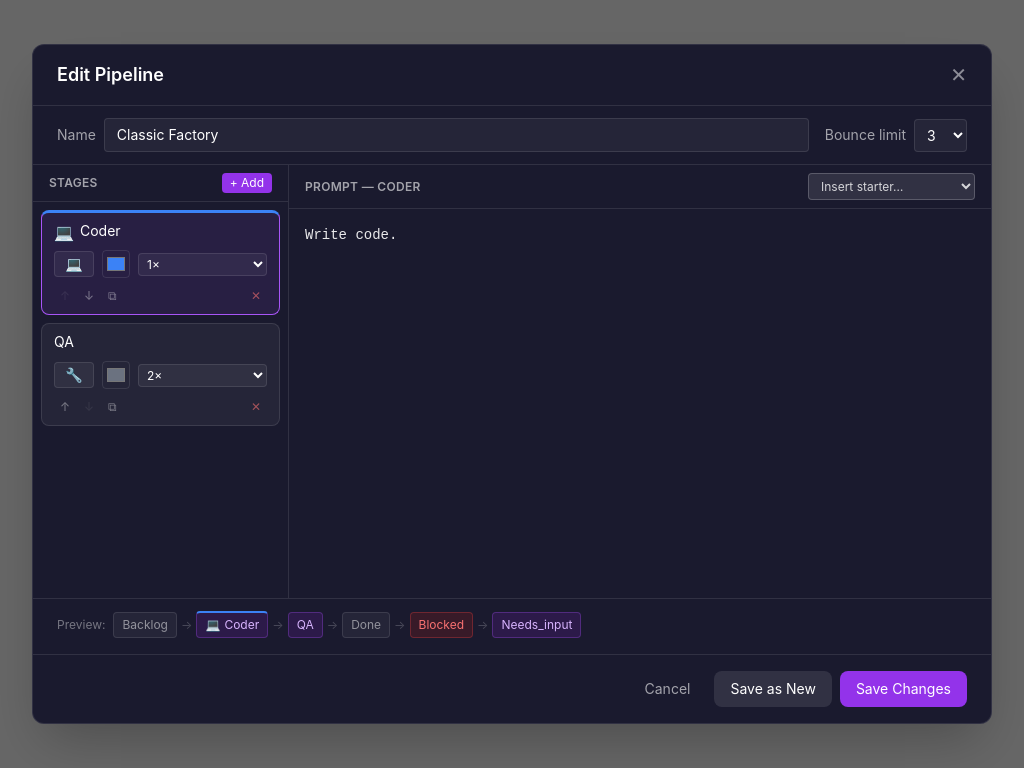
stage CRUD › duplicates a stage when clicking duplicate
Click the button named "duplicate stage" at x=112, y=296, box 102,286 -> 123,306
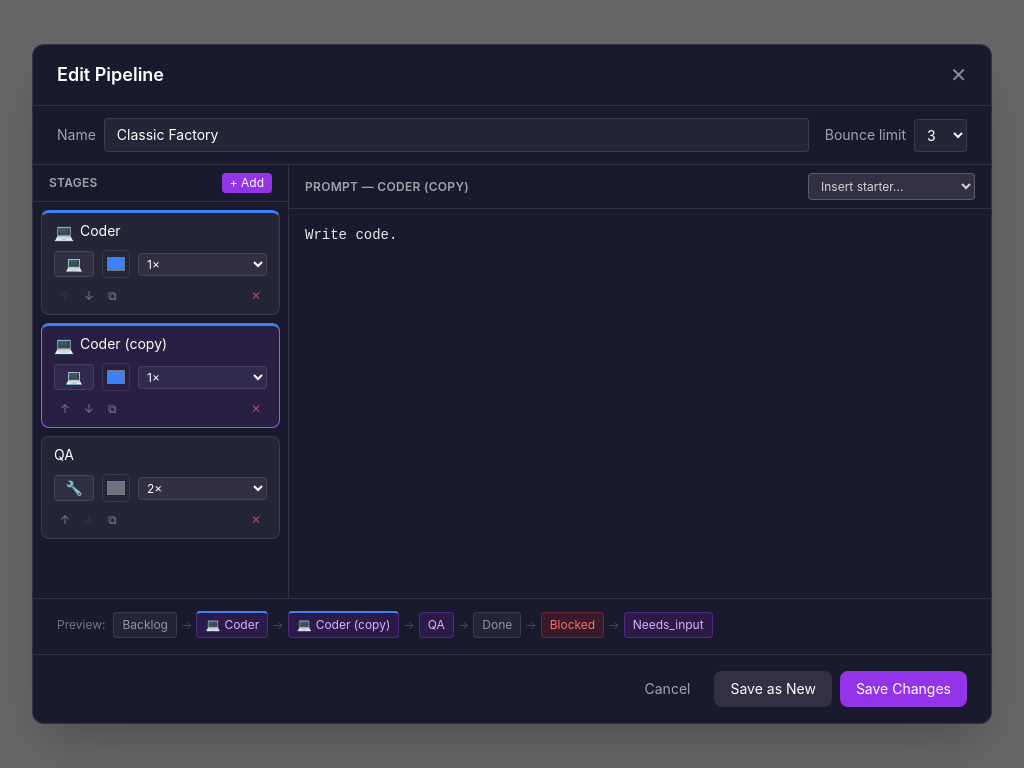
Check: the number of fields named "Stage name" is 3, box 80,221 -> 267,242; 80,334 -> 267,355; 54,445 -> 267,466
Check: the 2nd field named "Stage name" holds "Coder (copy)", box 80,334 -> 267,355
